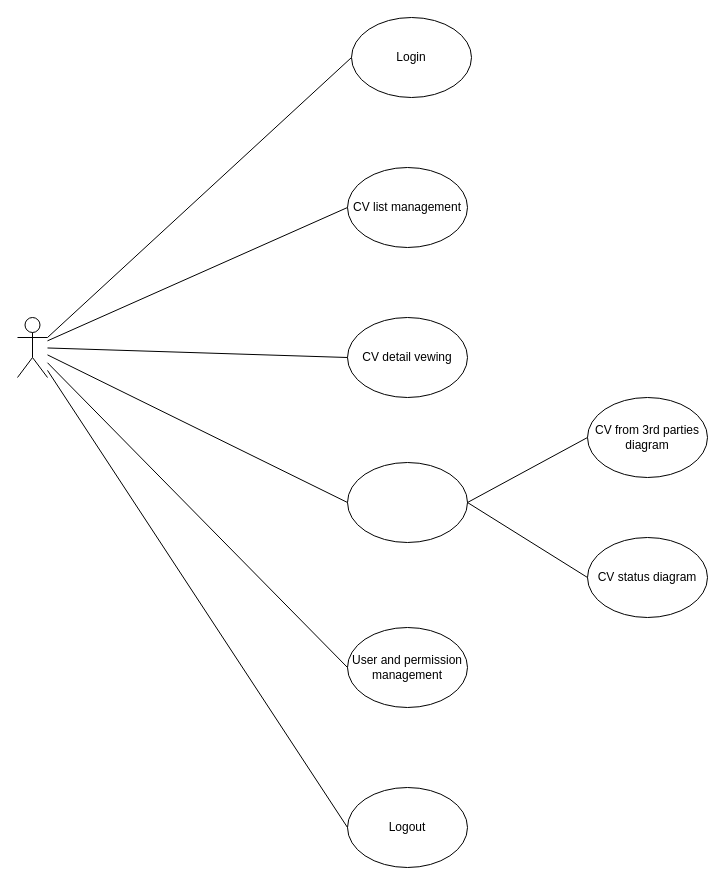
Some shapes in this 725 by 885 pixel diagram are drawn without their labels. The centre of each missing label's shape, as x and y in pixels:
Statistic diagrams viewing: the point at 407,502
User: the point at 32,347
